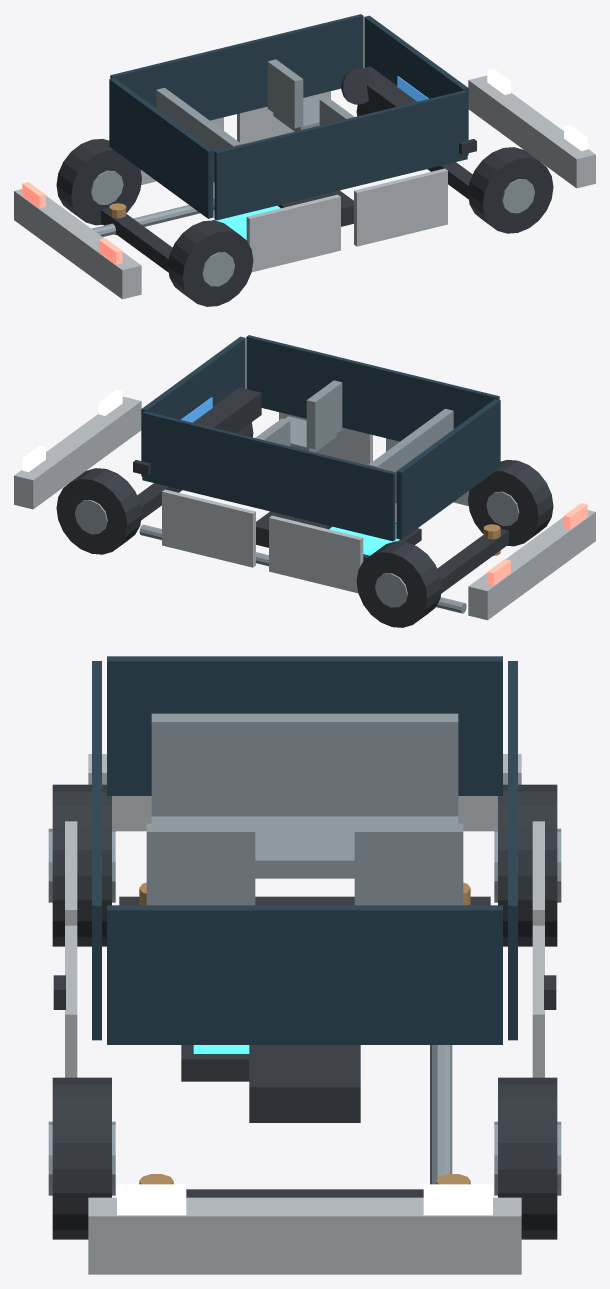
The model's file is car_parts.glb.
3 views of the same model, one above another, from view 1: azimuth 30°, elevation 25°; view 2: azimuth 150°, elevation 25°; view 3: azimuth 270°, elevation 25° (orthographic). The views are drawn at different scales.
Visible parts, largest first — view 1: part_glass_s-1, part_glass_s1, part_glass_b, part_bumper_f, part_door_35_-1, part_door_-65_-1, part_bumper_r, part_wheel_3, part_wheel_1, part_wheel_2, part_glass_f, part_seat_rb (+18 smaller); view 2: part_glass_s1, part_glass_s-1, part_glass_b, part_bumper_f, part_door_35_1, part_door_-65_1, part_bumper_r, part_wheel_2, part_wheel_0, part_wheel_3, part_glass_f, part_seat_rb (+17 smaller); view 3: part_glass_f, part_seat_rb, part_bumper_f, part_glass_b, part_seat_fb1, part_seat_fb-1, part_wheel_0, part_wheel_1, part_gearbox, part_seat_r, part_wheel_2, part_wheel_3 (+13 smaller).
Part boxes in pixels (left/top/right/bottom): part_glass_s-1: left=214, top=90, right=467, bottom=220; part_glass_s1: left=110, top=14, right=363, bottom=120; part_glass_b: left=109, top=78, right=213, bottom=218; part_bumper_f: left=468, top=75, right=595, bottom=188; part_door_35_-1: left=354, top=168, right=447, bottom=246; part_door_-65_-1: left=246, top=194, right=340, bottom=272; part_bumper_r: left=14, top=189, right=141, bottom=299; part_wheel_3: left=168, top=220, right=253, bottom=306; part_wheel_1: left=468, top=147, right=553, bottom=233; part_wheel_2: left=56, top=138, right=141, bottom=225; part_glass_f: left=364, top=15, right=468, bottom=155; part_seat_rb: left=156, top=87, right=241, bottom=178; part_glass_s1: left=142, top=411, right=395, bottom=541; part_glass_s-1: left=246, top=335, right=499, bottom=441; part_glass_b: left=396, top=399, right=500, bottom=539; part_bumper_f: left=14, top=396, right=141, bottom=509; part_door_35_1: left=162, top=489, right=255, bottom=567; part_door_-65_1: left=269, top=515, right=363, bottom=593; part_bumper_r: left=468, top=510, right=595, bottom=620; part_wheel_2: left=356, top=541, right=441, bottom=627; part_wheel_0: left=56, top=468, right=141, bottom=554; part_wheel_3: left=468, top=459, right=553, bottom=546; part_glass_f: left=141, top=336, right=245, bottom=476; part_seat_rb: left=368, top=408, right=453, bottom=499; part_glass_f: left=107, top=905, right=502, bottom=1044; part_seat_rb: left=151, top=713, right=458, bottom=816; part_bumper_f: left=88, top=1197, right=521, bottom=1274; part_glass_b: left=107, top=656, right=502, bottom=795; part_seat_fb1: left=354, top=823, right=463, bottom=905; part_seat_fb-1: left=146, top=823, right=255, bottom=905; part_wheel_0: left=498, top=1077, right=557, bottom=1239; part_wheel_1: left=52, top=1077, right=111, bottom=1239; part_gearbox: left=249, top=1045, right=360, bottom=1122; part_seat_r: left=151, top=816, right=458, bottom=878; part_wheel_2: left=498, top=784, right=557, bottom=946; part_wheel_3: left=52, top=784, right=111, bottom=946.
Size of the model in its own units: 4.42 by 1.28 by 2.07.
